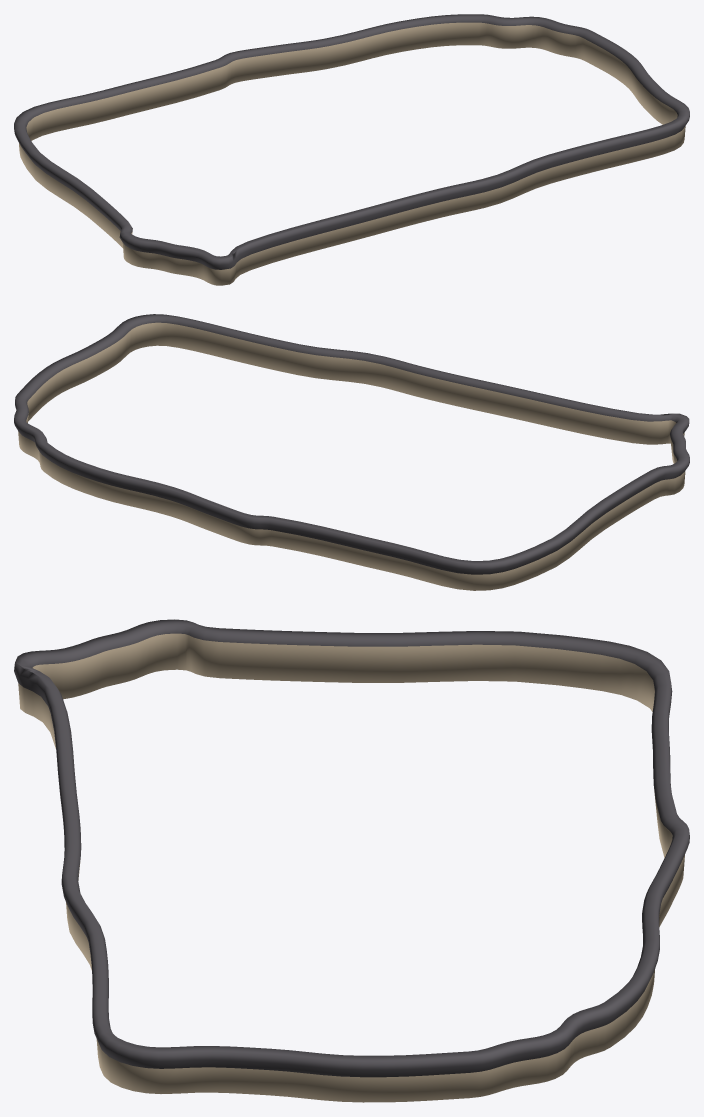
The model's file is SM_SkyIsland_MarshBase.fbx.
3 renders of one model, top to bottom at view 1: azimuth 30°, elevation 25°; view 2: azimuth 150°, elevation 25°; view 3: azimuth 270°, elevation 25°, orthographic. The views are drawn at different scales.
Visible parts, largest first — view 1: BezierCircle.010; view 2: BezierCircle.010; view 3: BezierCircle.010.
Part boxes in pixels (x1,y1,x2,y2): BezierCircle.010: [14, 14, 689, 285]; BezierCircle.010: [14, 314, 689, 590]; BezierCircle.010: [14, 619, 689, 1102].
Bounding box in the file's own units: 1188 × 54.49 × 766.
